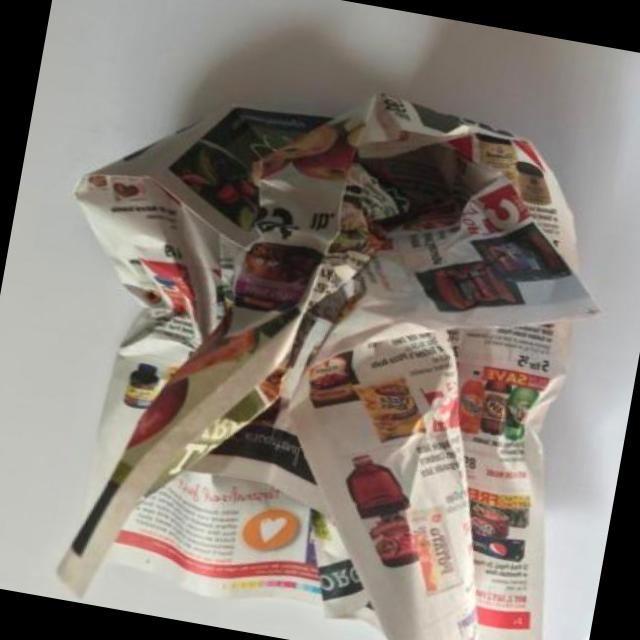cardboard paper: (61, 94, 598, 640)
